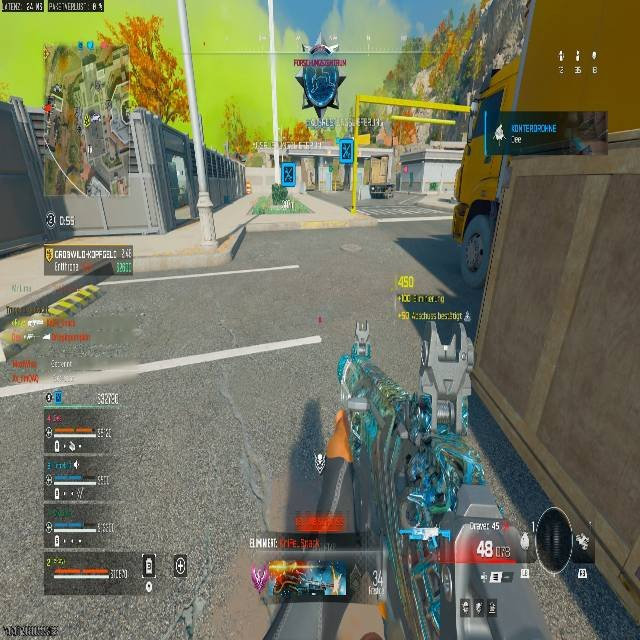player: (382, 181, 394, 198)
